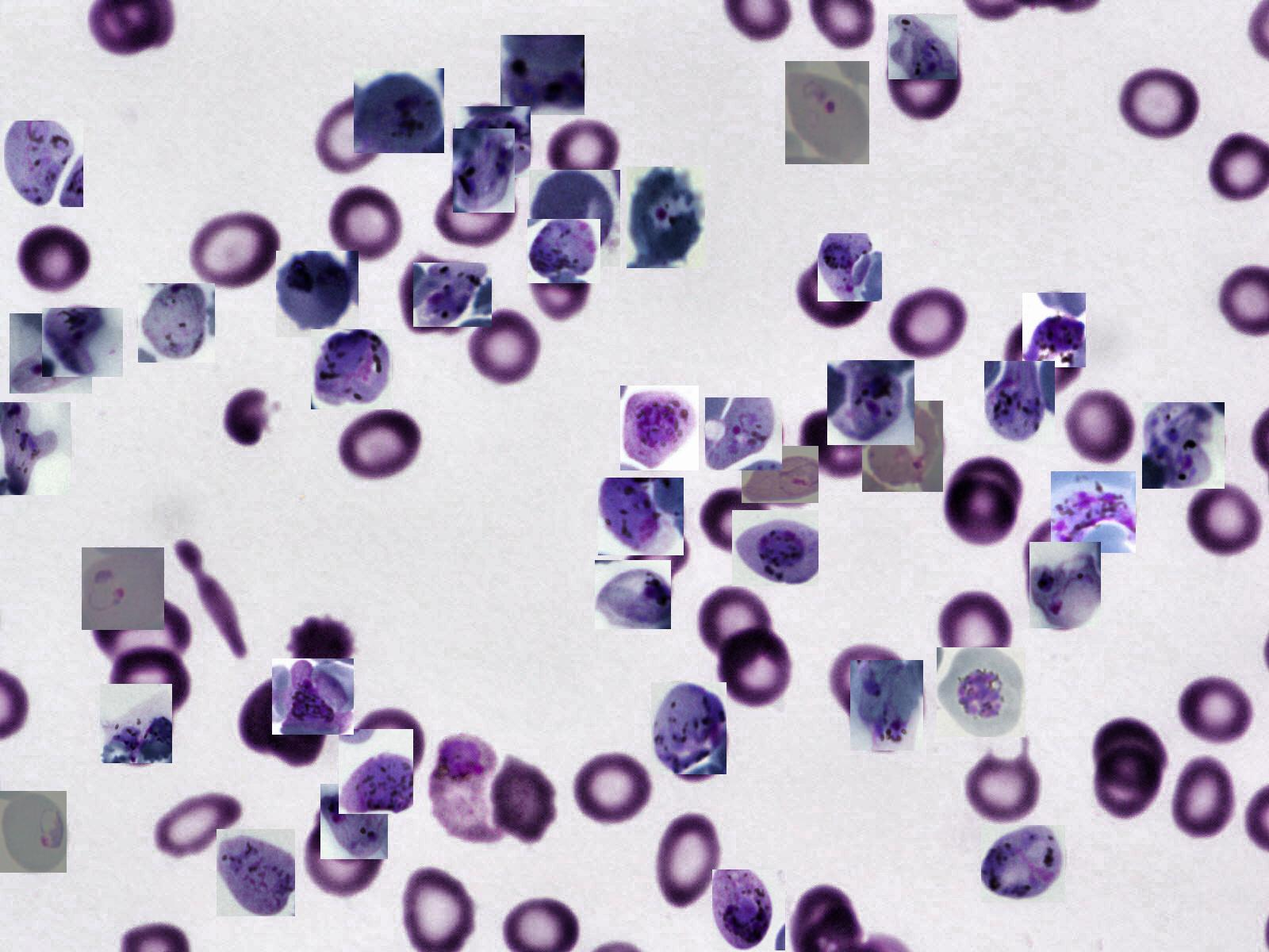Infected: (424, 736, 526, 844), (529, 170, 620, 267), (785, 61, 869, 164), (937, 647, 1026, 737), (627, 167, 705, 268), (354, 68, 444, 153), (827, 360, 914, 445), (862, 401, 943, 492), (1142, 402, 1225, 489), (276, 251, 358, 337), (651, 682, 727, 774), (1051, 472, 1136, 554), (82, 547, 164, 630), (500, 35, 585, 115), (4, 121, 83, 207), (217, 829, 295, 916), (621, 386, 700, 470), (598, 478, 684, 555), (732, 510, 819, 586), (0, 402, 71, 495), (850, 660, 923, 750), (10, 313, 92, 393), (981, 825, 1065, 903), (311, 330, 392, 409), (272, 658, 354, 735), (339, 729, 413, 814), (1029, 543, 1101, 629), (138, 283, 215, 363), (712, 869, 785, 950), (984, 361, 1055, 444), (100, 684, 172, 763), (705, 397, 782, 470), (42, 308, 123, 377), (0, 791, 67, 873), (455, 106, 531, 178), (595, 560, 671, 629), (453, 129, 515, 213), (320, 784, 388, 859), (413, 263, 492, 327), (1022, 294, 1086, 368), (527, 219, 600, 283), (888, 14, 957, 79), (742, 446, 819, 503), (818, 233, 882, 301)
Uninfected: (185, 205, 282, 294), (941, 453, 1025, 548), (92, 594, 192, 671), (300, 814, 385, 903), (1112, 60, 1202, 144), (650, 811, 723, 912), (105, 643, 190, 725), (826, 639, 912, 720), (934, 588, 1014, 674), (336, 405, 422, 484), (573, 748, 654, 831), (888, 285, 970, 366), (155, 791, 245, 864), (1006, 316, 1084, 399), (963, 743, 1039, 828), (431, 173, 516, 249), (467, 305, 543, 389), (13, 221, 98, 296), (312, 96, 392, 175), (327, 183, 404, 265), (720, 626, 793, 712), (881, 41, 960, 119), (1061, 387, 1137, 468), (1178, 479, 1259, 554), (797, 405, 876, 481), (542, 117, 620, 193), (1022, 511, 1098, 589), (238, 679, 313, 756), (492, 754, 558, 839), (702, 587, 773, 666), (261, 681, 326, 767), (1094, 745, 1162, 823), (792, 261, 872, 327), (698, 486, 776, 553), (529, 243, 593, 324), (1093, 720, 1166, 791), (1176, 676, 1252, 743), (1172, 758, 1233, 839), (354, 706, 426, 774), (397, 252, 458, 332), (619, 526, 692, 591), (663, 714, 729, 783), (285, 613, 355, 678), (217, 385, 275, 448)
